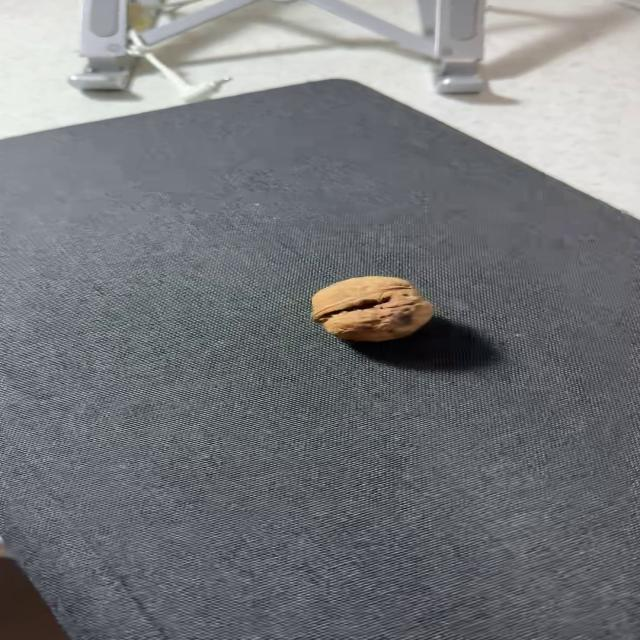nuts-good: (312, 276, 433, 342)
